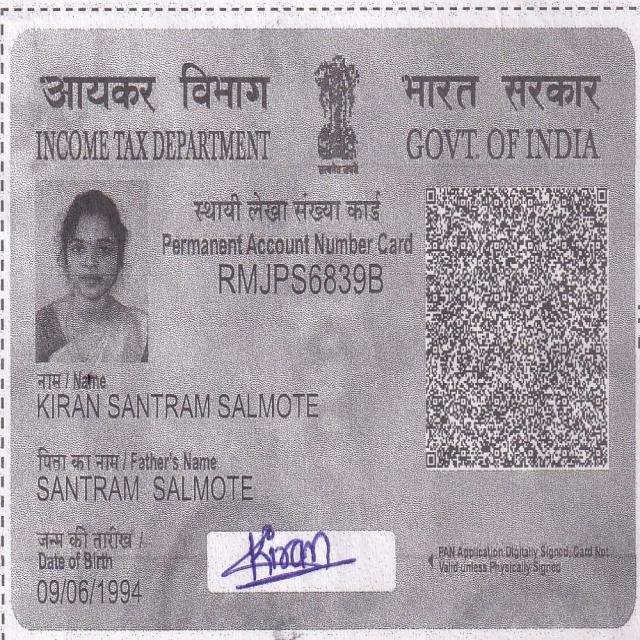pan_card: (11, 27, 637, 634)
